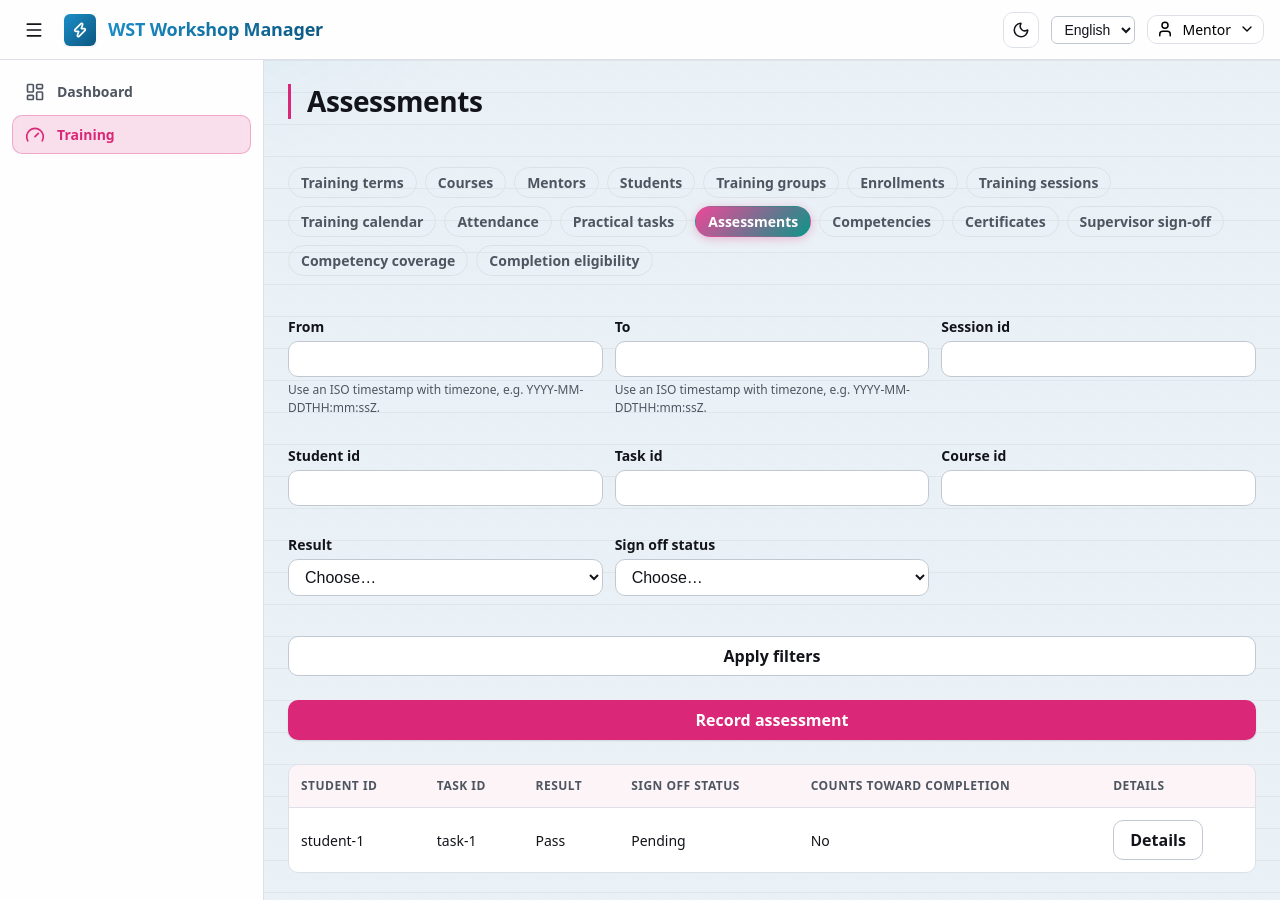
Test case: assessment entry and supervisor separation › disables self sign-off even when the assessor has both permissions
What coordinates should you click on to do the following:
click the button "Details"
I would click on:
 (1158, 840)
Its box is 1113,820 -> 1203,860.
(page scrolled)
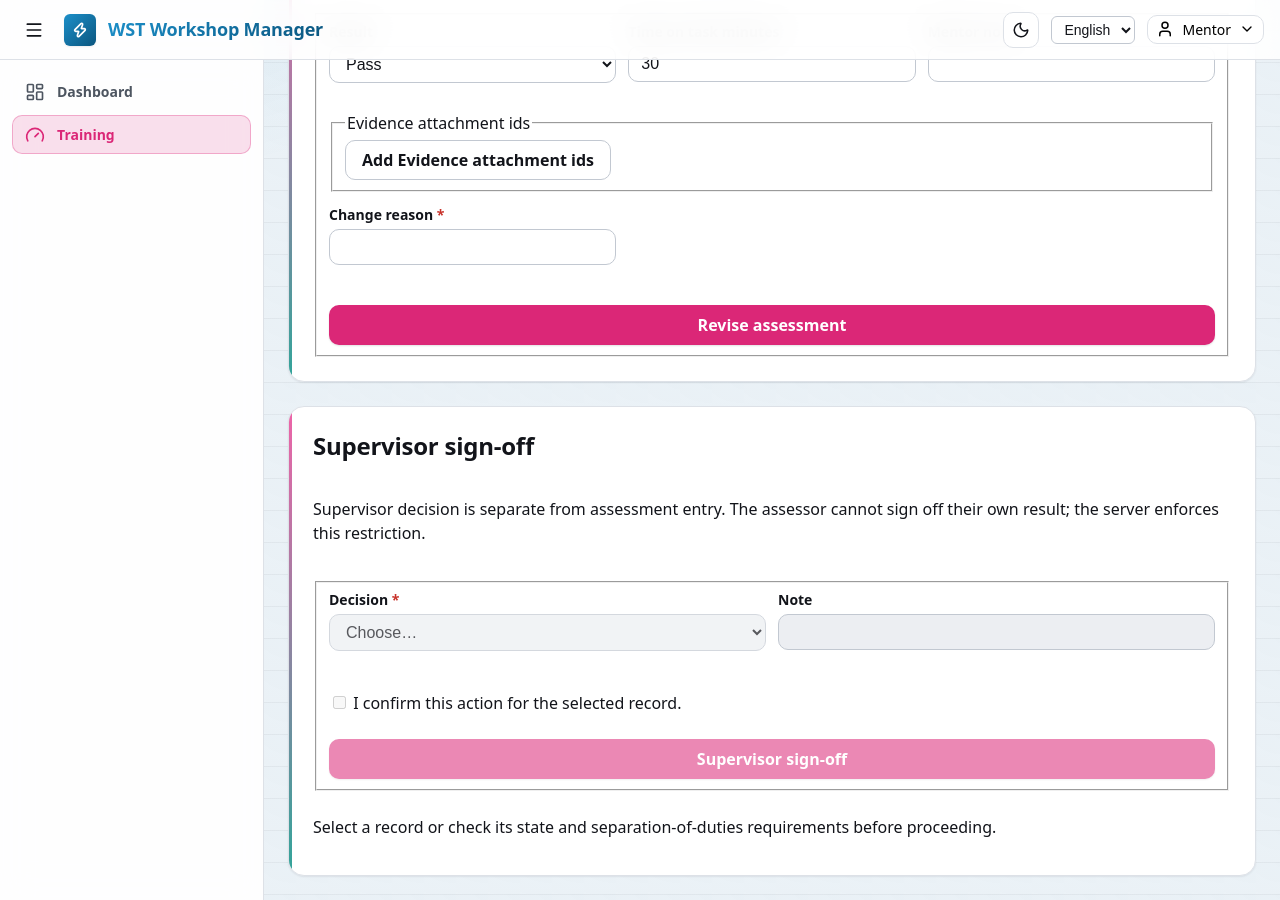
Result: the button "Supervisor sign-off" is disabled at 329,739 -> 1215,779
